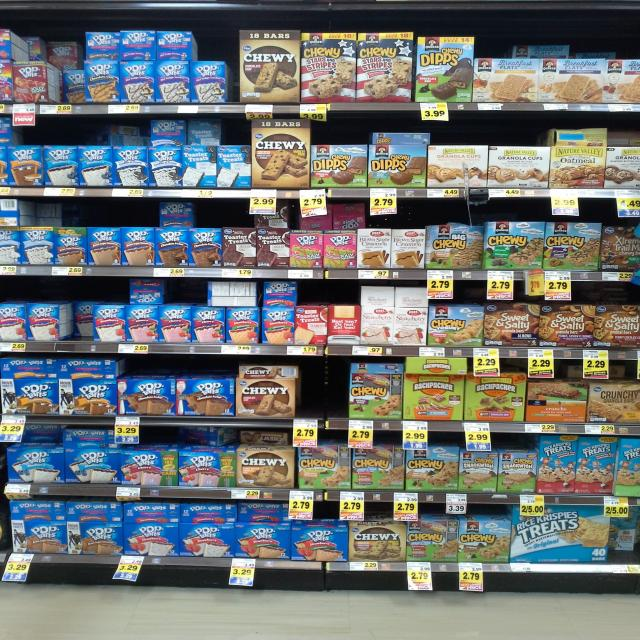void: (306, 363, 344, 418), (124, 427, 182, 446)
